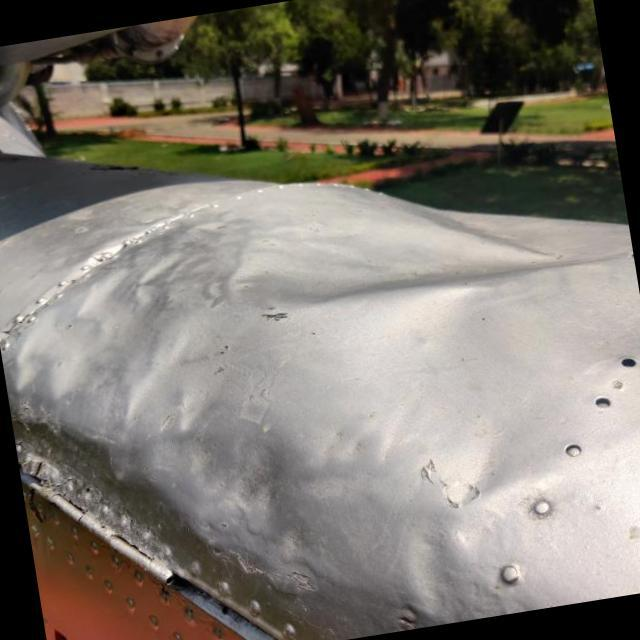Dent: (206, 127, 624, 364), (0, 236, 211, 469), (130, 364, 325, 568), (378, 498, 494, 632), (422, 414, 559, 522)
Fastener Damage: (581, 377, 631, 428), (603, 339, 640, 385)
